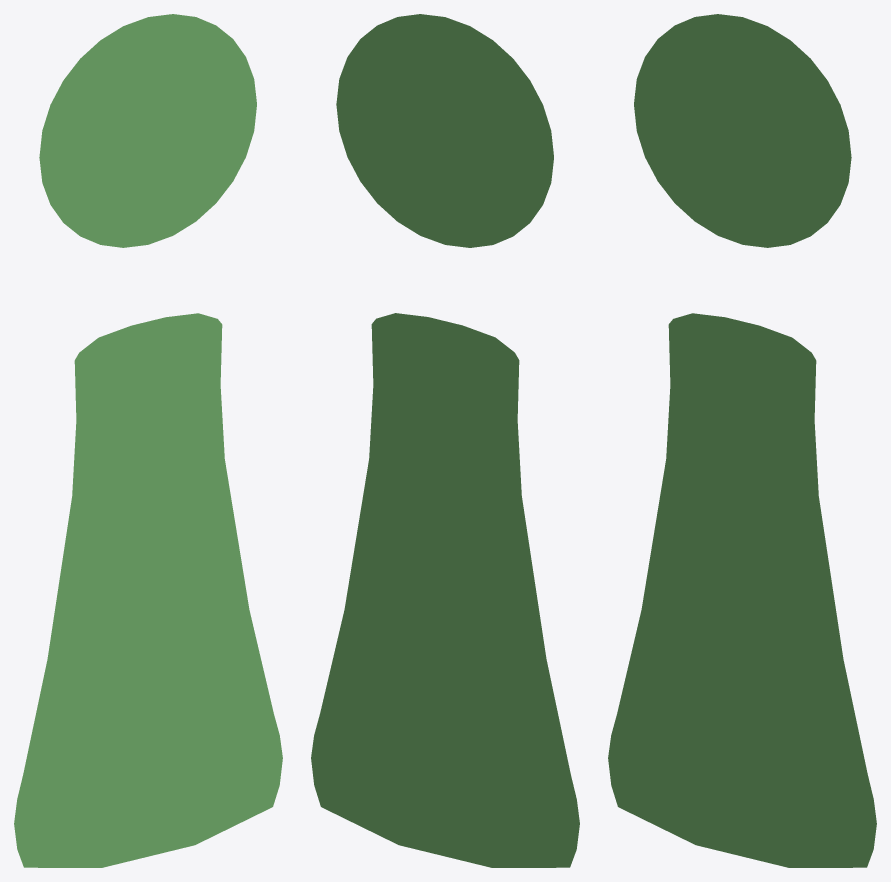
The model's file is SM_GFClock_01d.FBX.
The picture shows the model from 3 angles, left to right: view 1: azimuth 30°, elevation 25°; view 2: azimuth 150°, elevation 25°; view 3: azimuth 330°, elevation 25°; orthographic projection.
Visible parts, largest first — view 1: SM_GFClock_01d_SM_GFClock_01d_LOD0; view 2: SM_GFClock_01d_SM_GFClock_01d_LOD0; view 3: SM_GFClock_01d_SM_GFClock_01d_LOD0.
Part boxes in pixels (x1,y1,x2,y2): SM_GFClock_01d_SM_GFClock_01d_LOD0: (14,14,282,867); SM_GFClock_01d_SM_GFClock_01d_LOD0: (311,14,579,867); SM_GFClock_01d_SM_GFClock_01d_LOD0: (608,14,876,867).
Size of what is drawn, in the model's own units: 47.09 by 140 by 0.0695.
